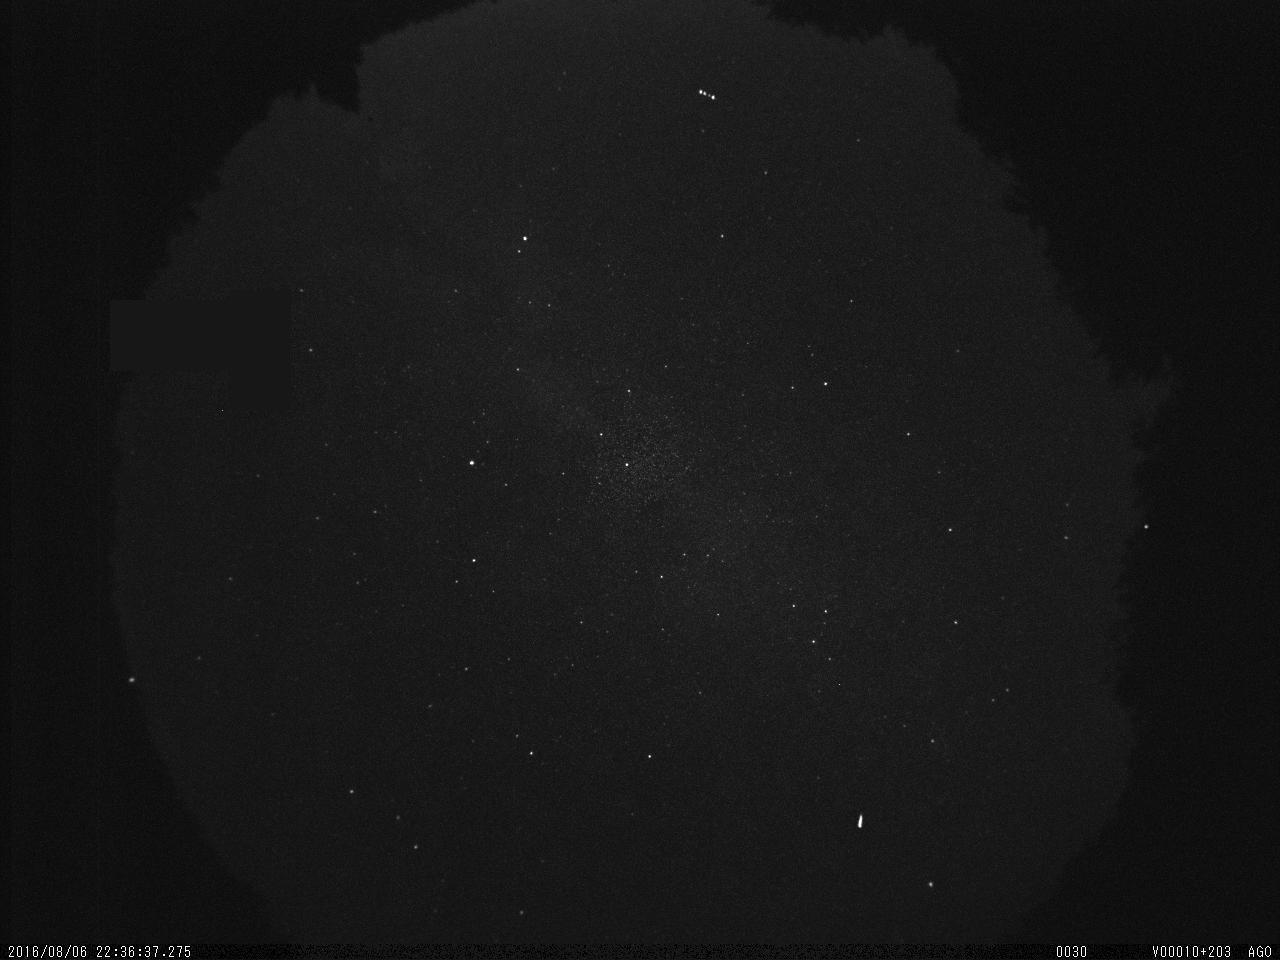meteor: (850, 807, 869, 836)
satelite: (693, 81, 725, 107)
